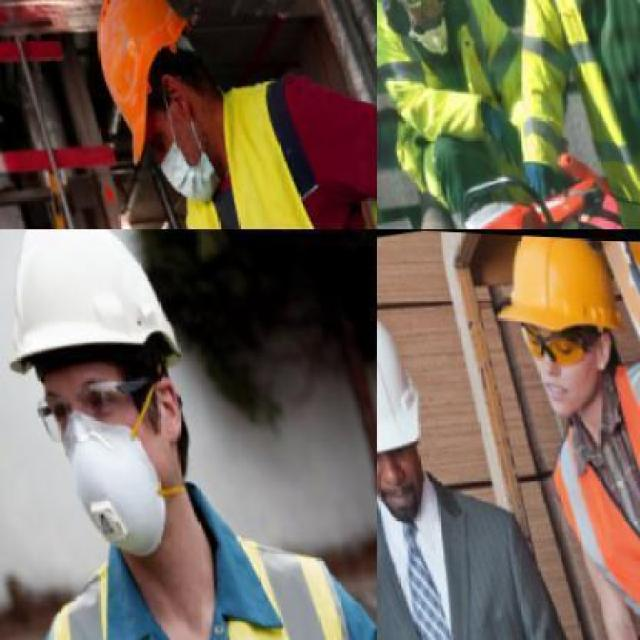Vest: (0, 492, 375, 638), (147, 54, 376, 228), (512, 338, 638, 638), (480, 0, 638, 228), (377, 0, 534, 203)
